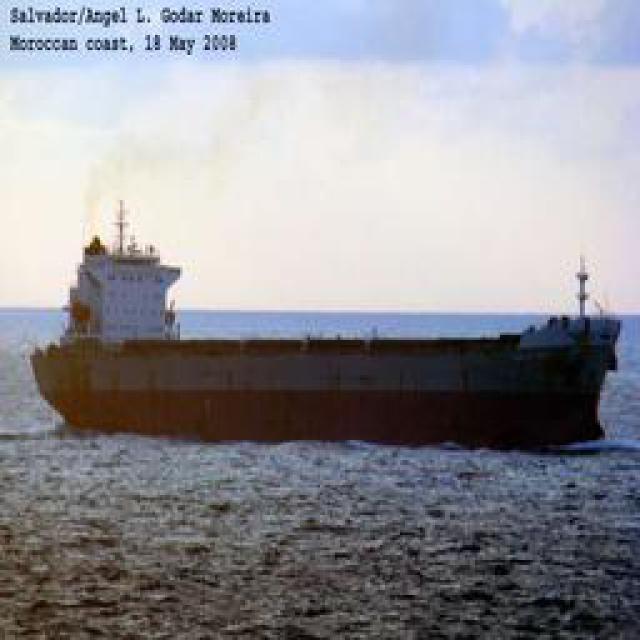Ship: (36, 323, 609, 448)
